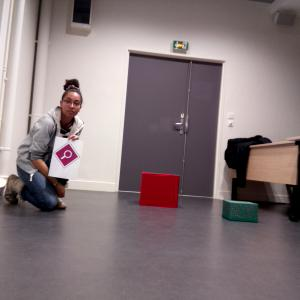search: (54, 143, 79, 168)
